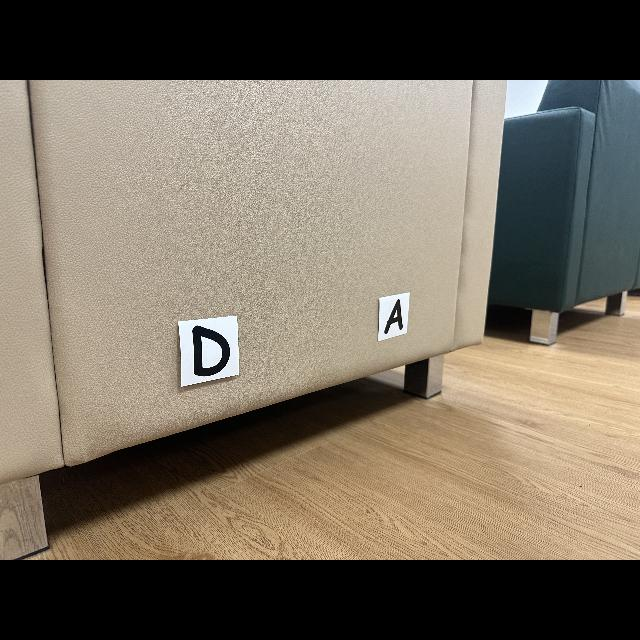A: (384, 299, 404, 334)
D: (192, 325, 230, 376)
